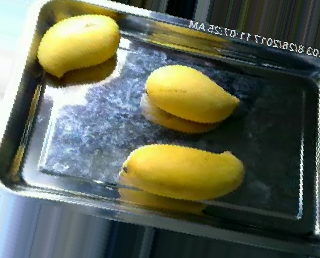Mango: (123, 141, 248, 199), (147, 63, 235, 122), (38, 14, 119, 77)
